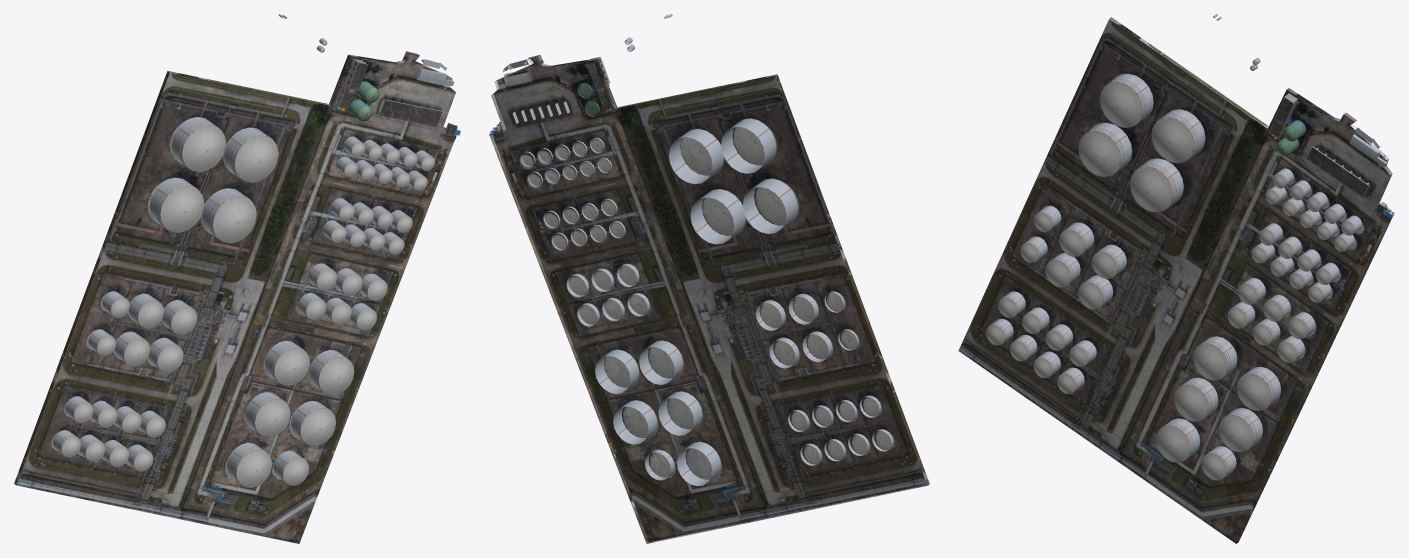
Rendered from p6a_jar_white01.fbx.
The picture shows the model from 3 angles, left to right: view 1: azimuth 30°, elevation 25°; view 2: azimuth 150°, elevation 25°; view 3: azimuth 330°, elevation 25°; orthographic projection.
Visible parts, largest first — view 1: p6a_jar_white01; view 2: p6a_jar_white01; view 3: p6a_jar_white01.
Part boxes in pixels (x1,y1,x2,y2): p6a_jar_white01: (14,14,460,543); p6a_jar_white01: (489,14,929,543); p6a_jar_white01: (958,14,1394,543).
Bounding box in the file's own units: 47476 × 54716 × 4839.
